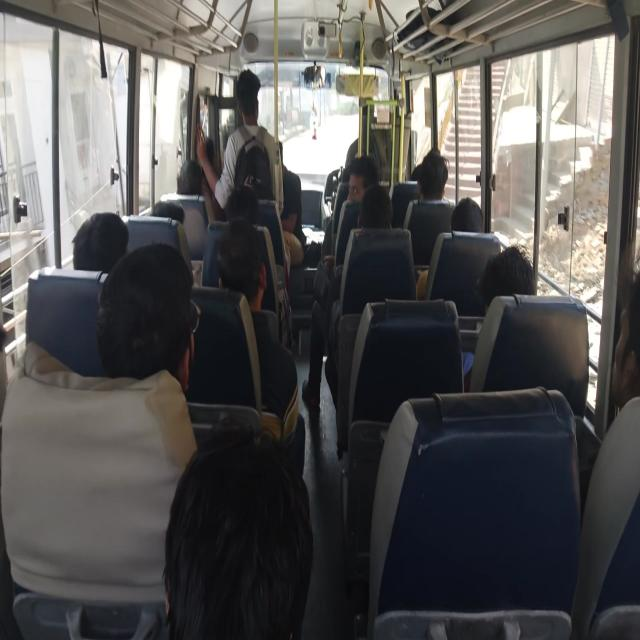person: (162, 417, 314, 639), (570, 238, 640, 638), (216, 217, 306, 476), (195, 68, 305, 266), (302, 154, 379, 412), (96, 241, 198, 395), (461, 244, 535, 391), (416, 196, 484, 299), (476, 244, 534, 314), (402, 147, 450, 229), (611, 270, 639, 410), (72, 210, 129, 272), (277, 140, 305, 266), (416, 147, 449, 202), (358, 185, 393, 229), (451, 196, 484, 232), (176, 159, 202, 195)
